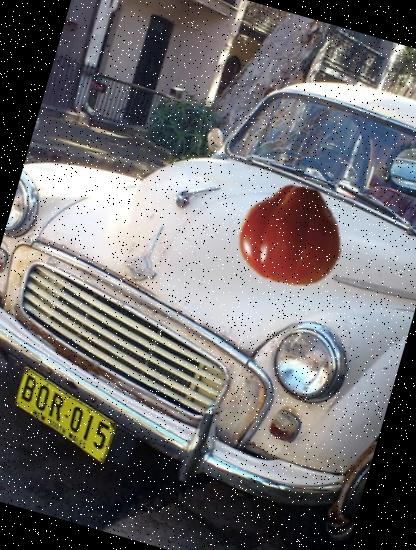Tomato: (227, 170, 356, 299)
